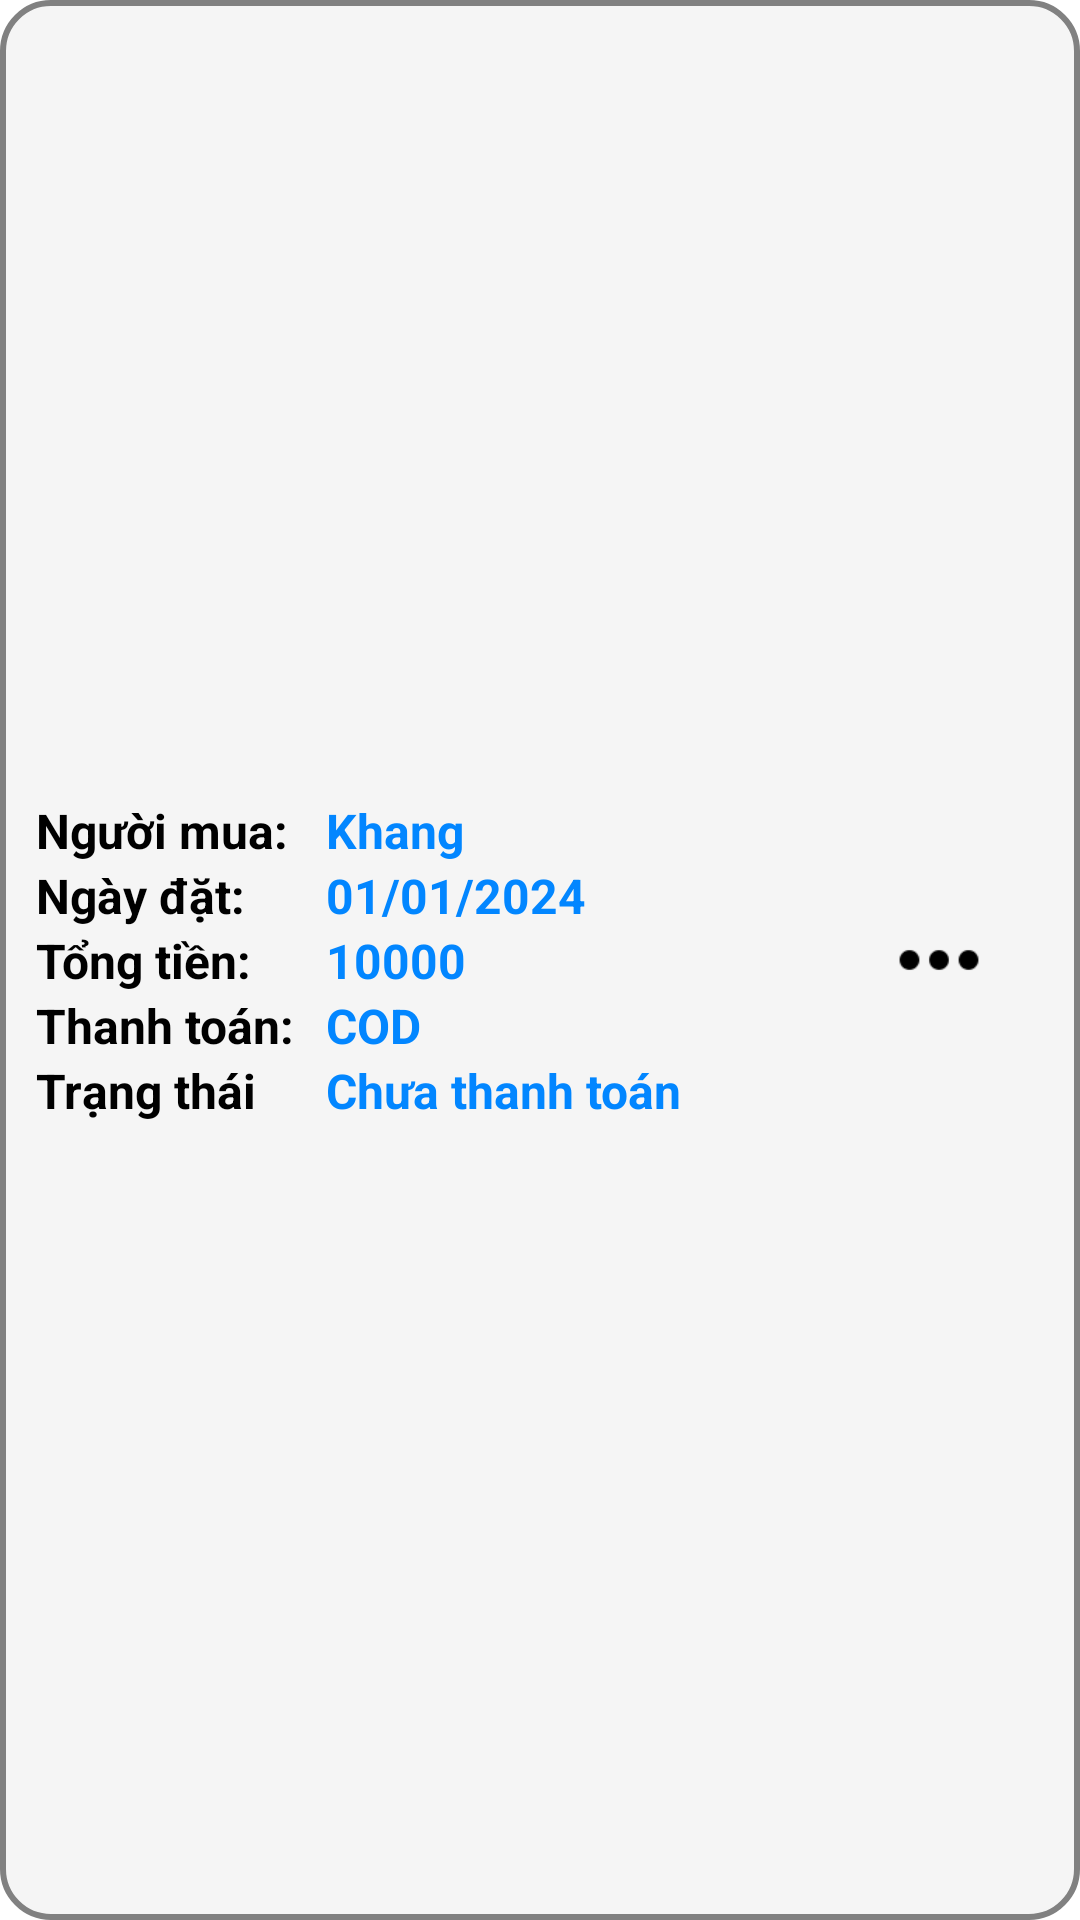

Icon click points for this 1080*1920 phone screenshot, format point (x, y):
dot: point (939, 960)
